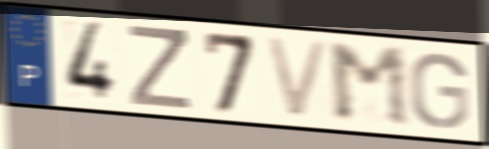4: (62, 17, 119, 105)
7: (202, 28, 256, 116)
G: (407, 51, 471, 132)
M: (324, 42, 415, 130)
V: (262, 33, 334, 122)
Z: (126, 22, 194, 112)
